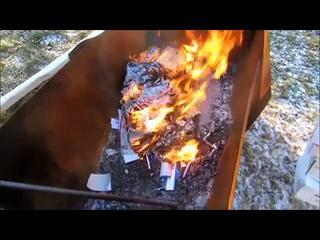Fire: (125, 32, 218, 165)
